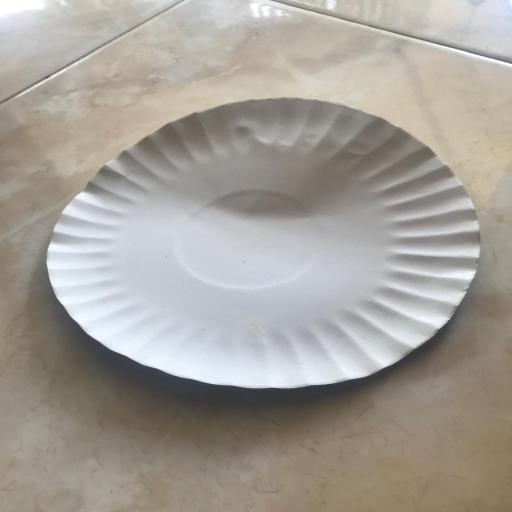waste: (34, 86, 486, 393)
